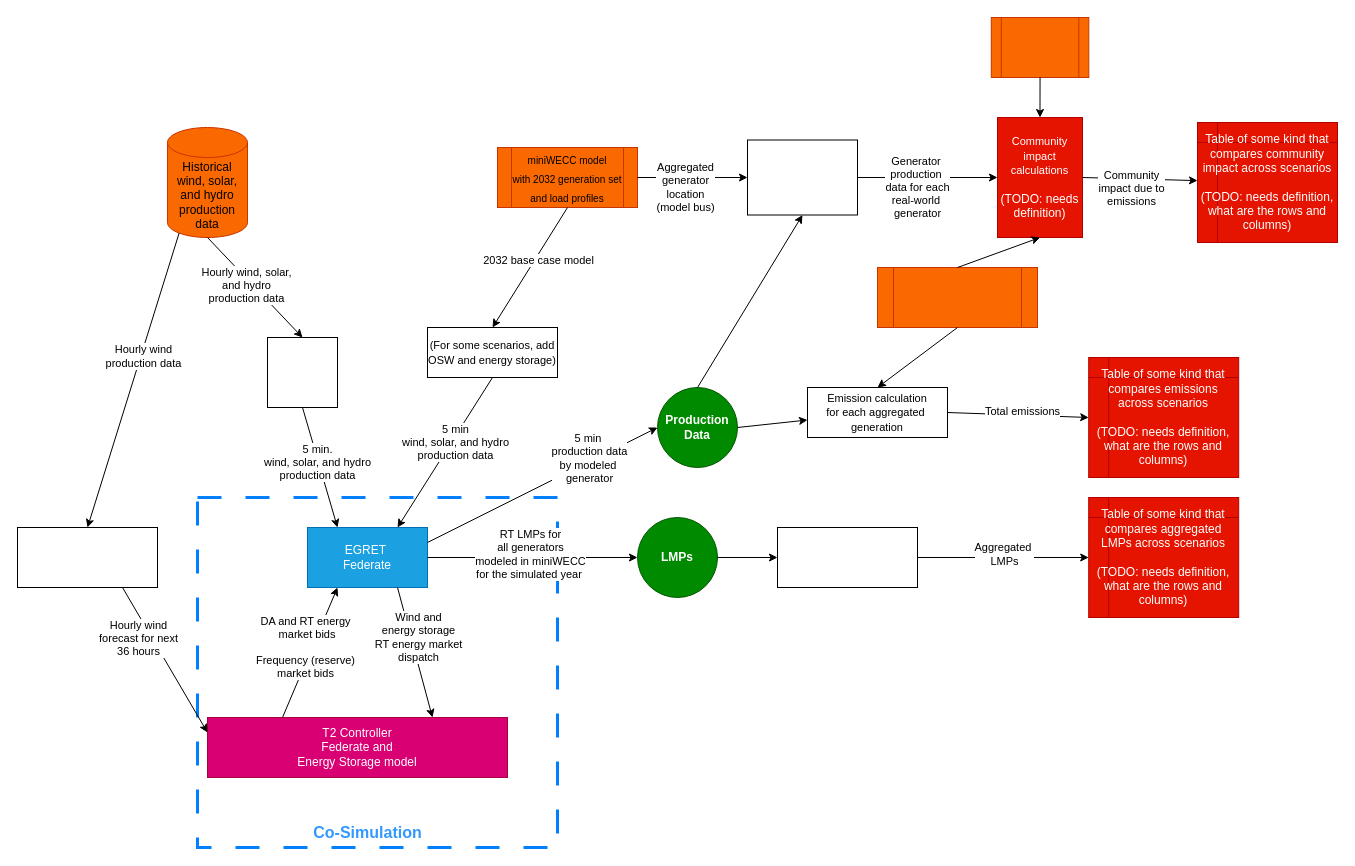
Some shapes in this 1355 by 866 pixel diagram are drawn without their labels. Each missing label, with the box of its shape:
CO2 emissions rate by fuel and generator technology type: (876, 266, 1038, 328)
Disadvantaged community location: (990, 16, 1089, 78)
Forecast generation algorithm: (16, 526, 158, 588)
Generator disaggregation and production allocation: (746, 139, 858, 215)
Interpolation to RT market interval: (266, 336, 338, 408)
Temporal and/or spatial aggregation: (776, 526, 918, 588)
